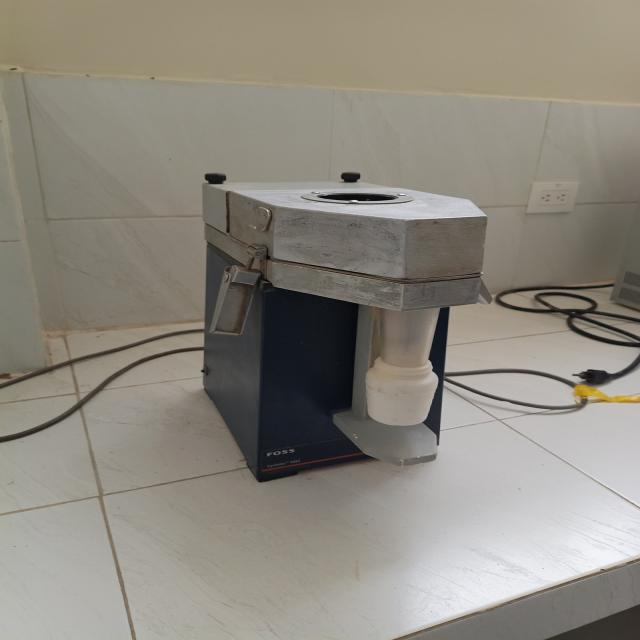Molino Ciclonico de Muestras Bromatologicas: (203, 172, 485, 482)
